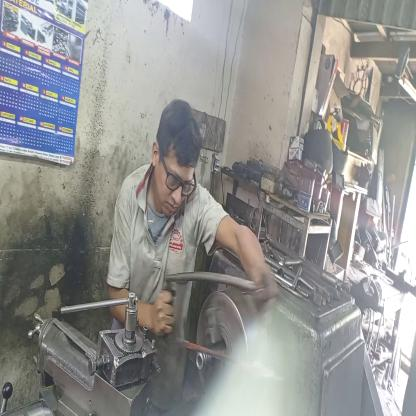lentes: (158, 150, 200, 203)
